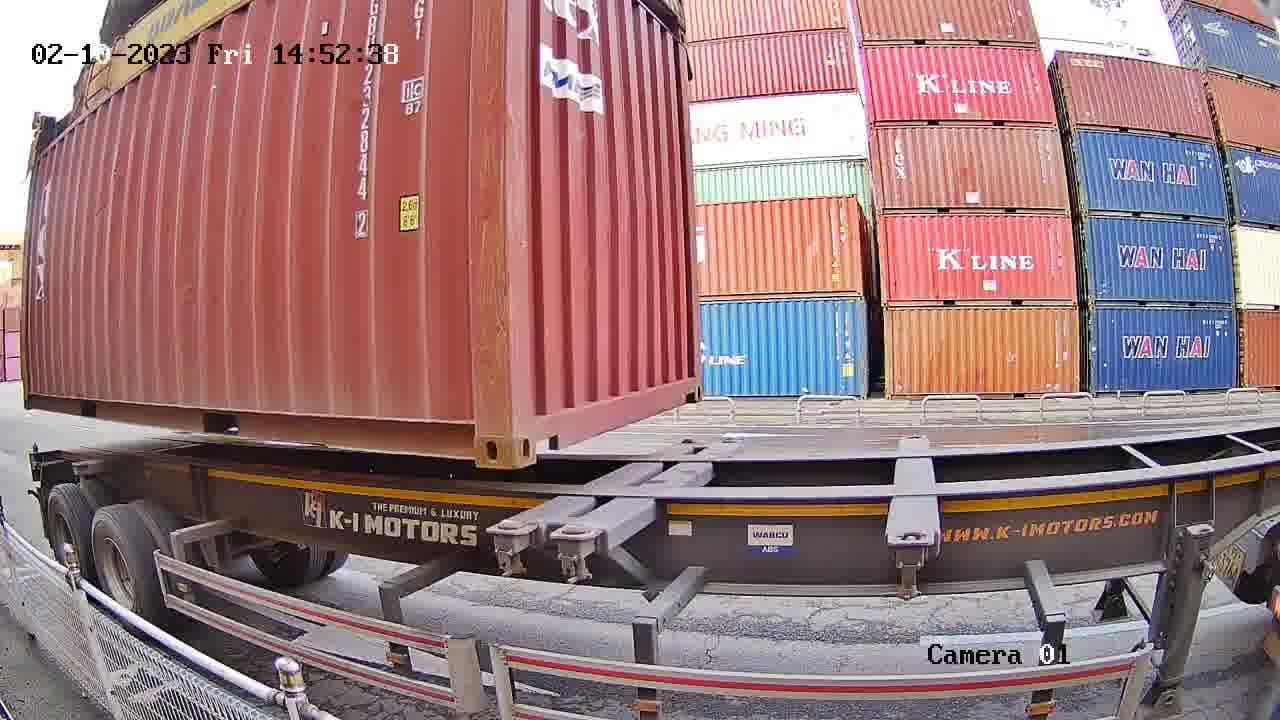Chassis: (553, 440, 744, 553), (488, 441, 704, 536)
Cone: (557, 526, 610, 584), (492, 519, 539, 576)
Hole_L: (512, 395, 566, 471)
Hole_R: (445, 406, 513, 471), (675, 363, 704, 406)
Tire: (89, 511, 149, 625), (48, 488, 88, 587)
